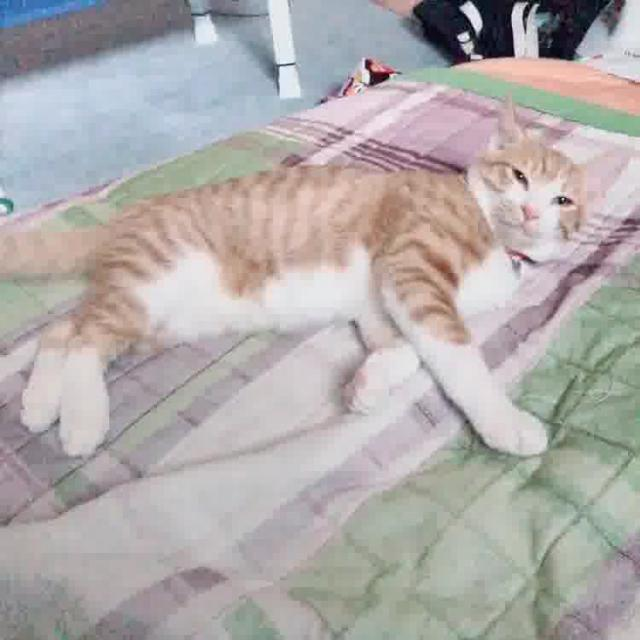cat: (0, 88, 640, 473)
